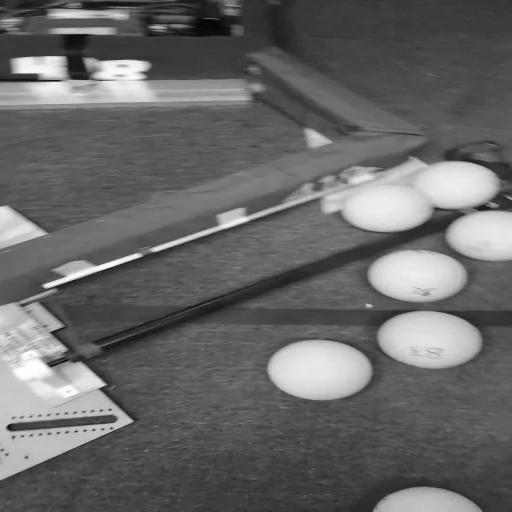fuel: (267, 340, 373, 401), (377, 311, 483, 368), (367, 250, 467, 302), (342, 184, 434, 233), (412, 161, 500, 210), (446, 210, 511, 261), (374, 487, 482, 511)
